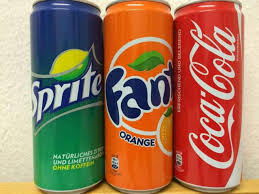fanta: (102, 5, 177, 191)
